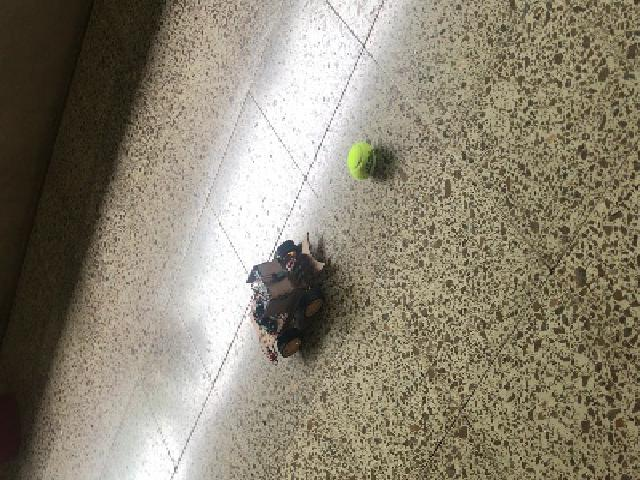Ball: (346, 140, 376, 180)
Robot: (245, 232, 326, 358)
